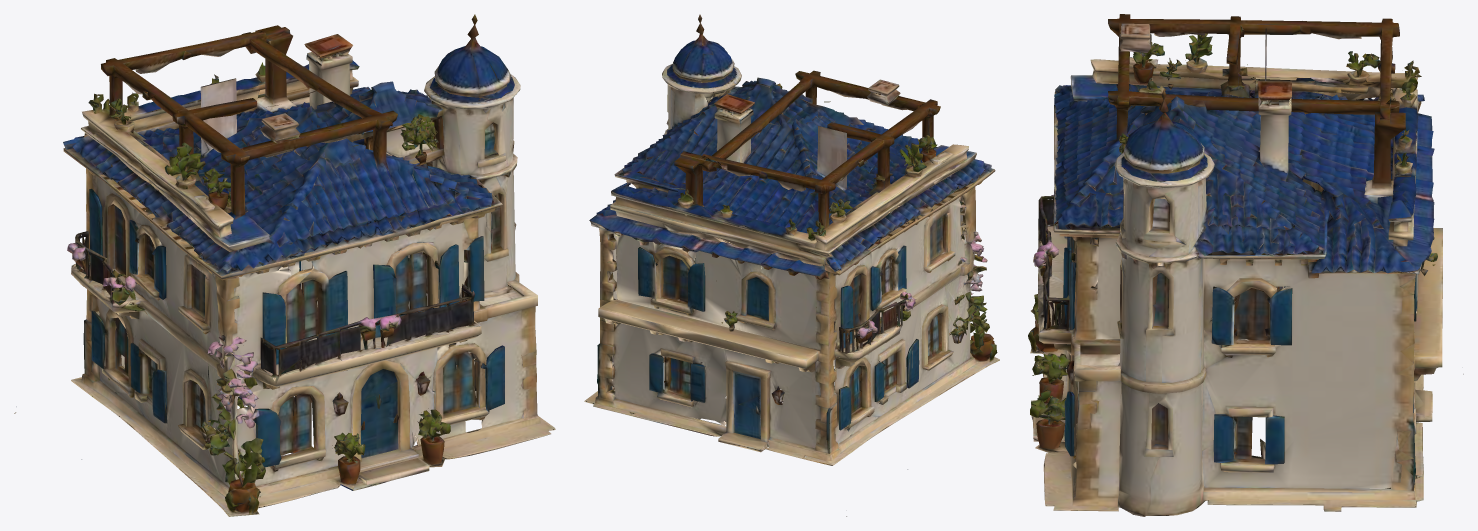
The picture shows the model from 3 angles, left to right: view 1: azimuth 30°, elevation 25°; view 2: azimuth 150°, elevation 25°; view 3: azimuth 270°, elevation 25°; orthographic projection. The views are drawn at different scales.
Parts seen in each view (by area): view 1: harbor__tower_2__native_mobile; view 2: harbor__tower_2__native_mobile; view 3: harbor__tower_2__native_mobile.
Boxes of the visible parts, x1,y1,x2,y2 form: harbor__tower_2__native_mobile: (14,14,555,516); harbor__tower_2__native_mobile: (584,14,999,516); harbor__tower_2__native_mobile: (1028,14,1463,516).
Size of the model in its own units: 0.8921 by 1 by 0.8762.
1 material, 1 textured.
